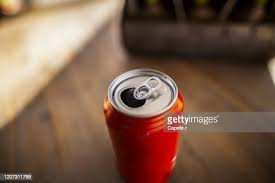can: (95, 68, 185, 183)
